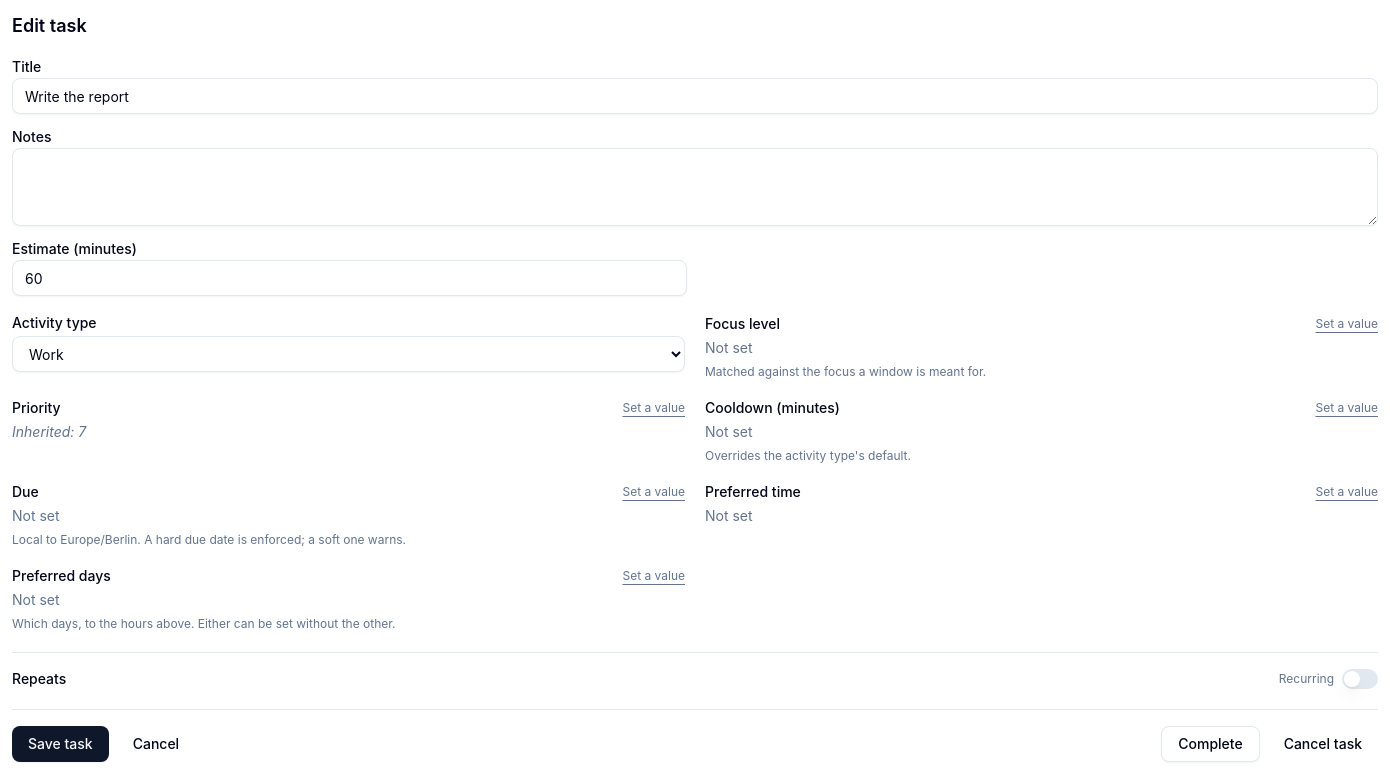
it: the override control › says what pressing it does
Click the button with test id "override-toggle" in the row of "Priority" at (654, 408), box [622,400,685,416]
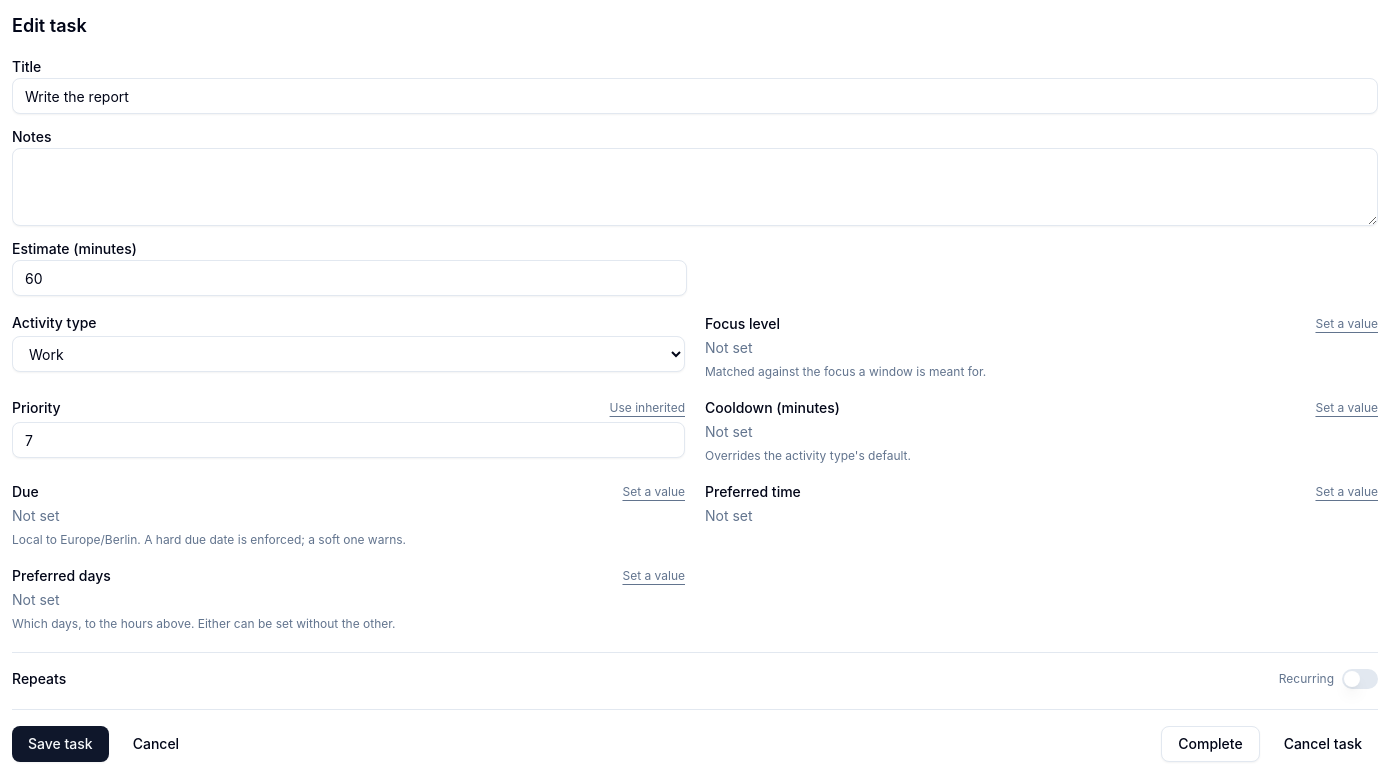
Result: the button with test id "override-toggle" reads "Use inherited" at [610,400,685,416]
